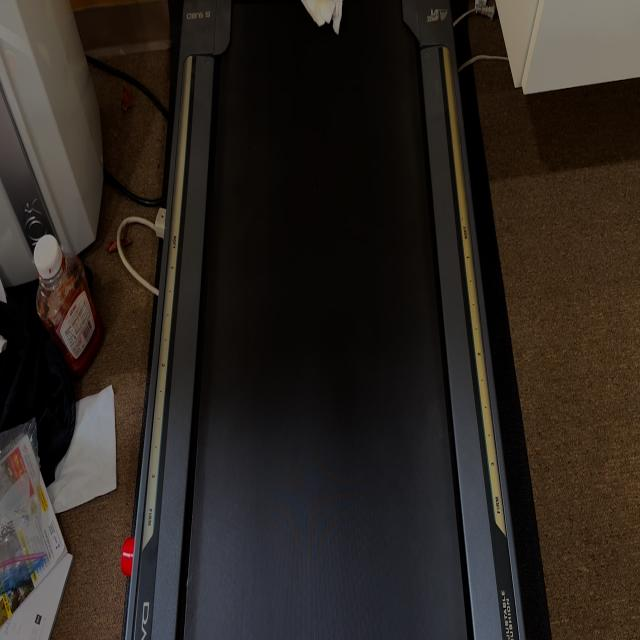Trash: (297, 0, 344, 37)
